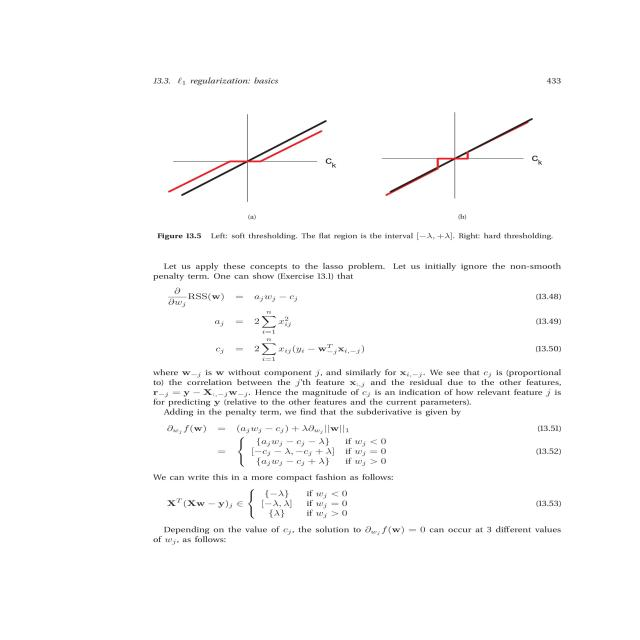diagram: (123, 91, 604, 246)
